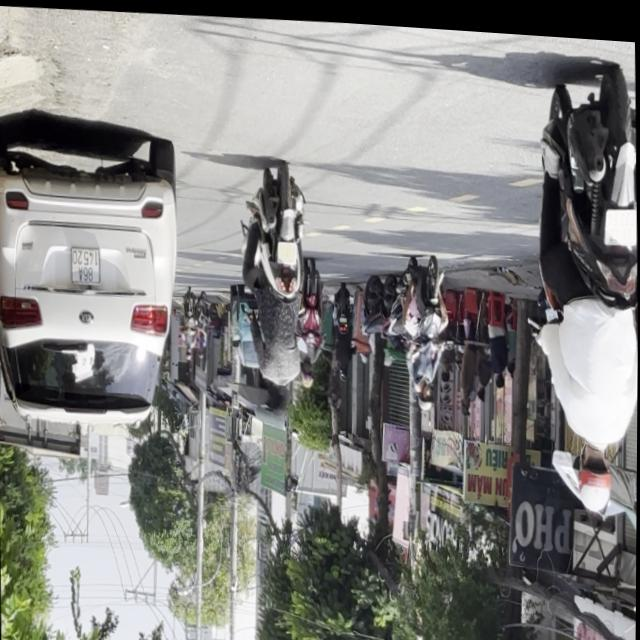helmet: (576, 434, 615, 507)
licenseplate: (528, 54, 640, 512), (237, 157, 313, 421)
motorcyclist: (267, 377, 290, 415)
nohelmet: (605, 201, 637, 239), (278, 237, 297, 260)
